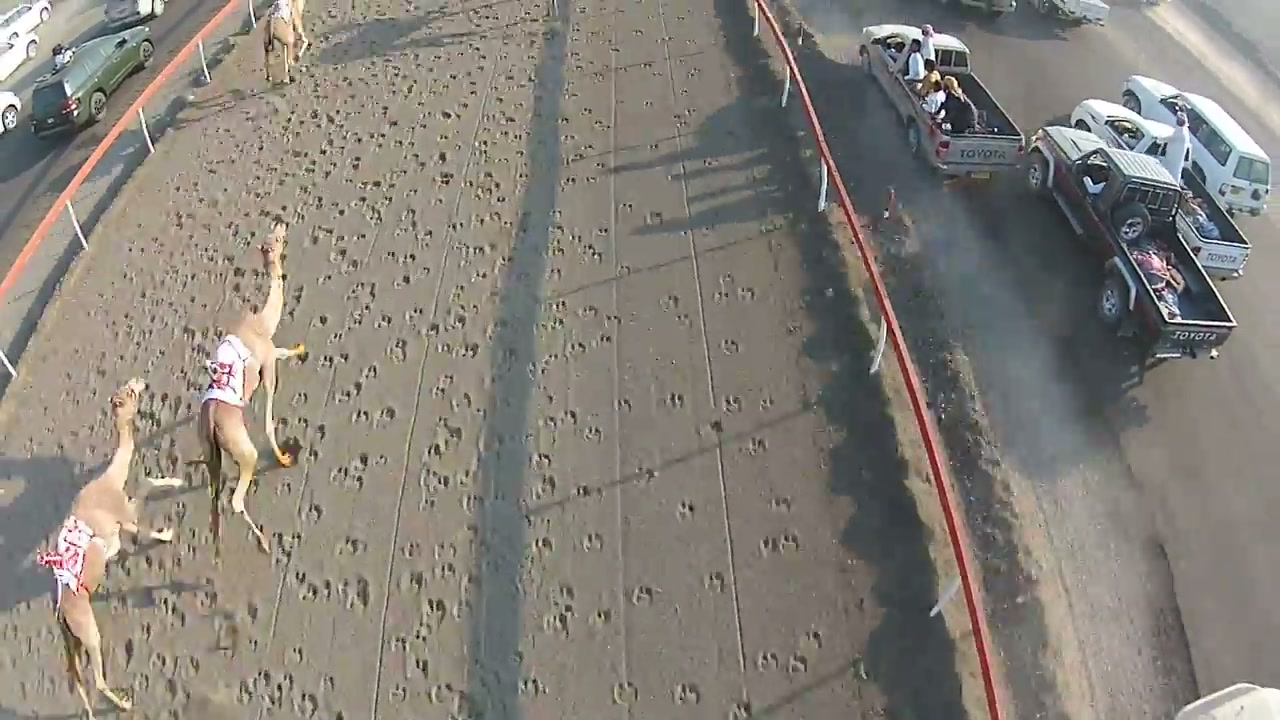animal_footprint: (140, 49, 417, 719), (397, 46, 586, 719)
